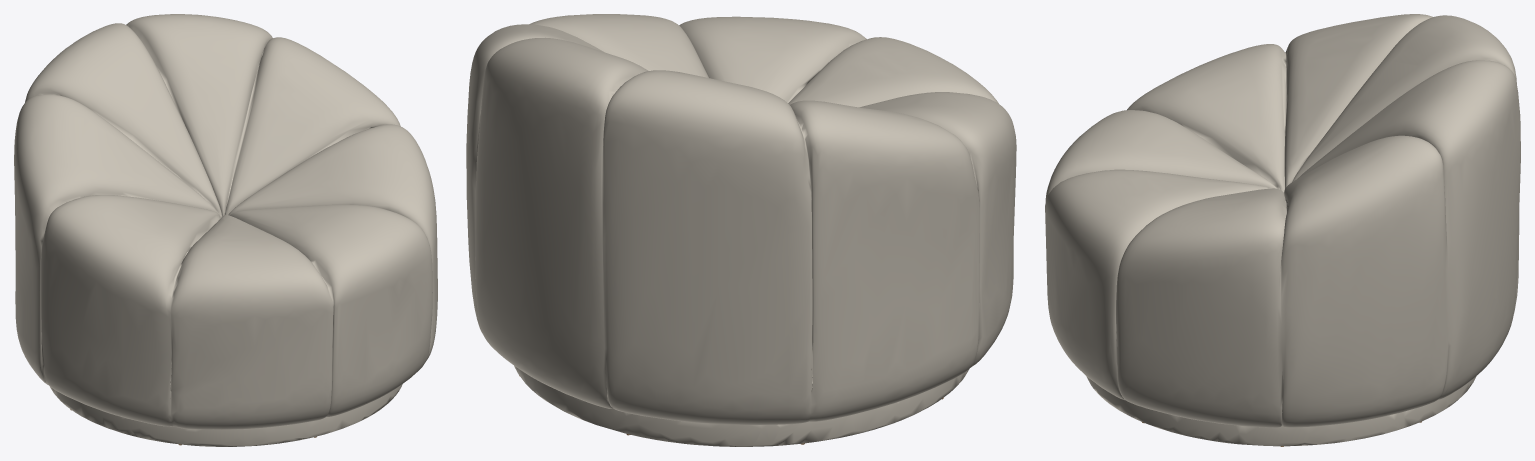
Rendered from bella-3d-boucle-lounge-chair.glb.
The picture shows the model from 3 angles, left to right: view 1: azimuth 30°, elevation 25°; view 2: azimuth 150°, elevation 25°; view 3: azimuth 270°, elevation 25°; orthographic projection. The views are drawn at different scales.
Parts seen in each view (by area): view 1: boucle-lounge-chair-5; view 2: boucle-lounge-chair-5; view 3: boucle-lounge-chair-5.
Boxes of the visible parts, bbox=[...] form: boucle-lounge-chair-5: bbox=[14, 14, 437, 446]; boucle-lounge-chair-5: bbox=[466, 14, 1016, 446]; boucle-lounge-chair-5: bbox=[1045, 14, 1520, 446].
Size of the model in its own units: 0.9549 by 0.6936 by 0.9618.
3 materials, 1 textured.
